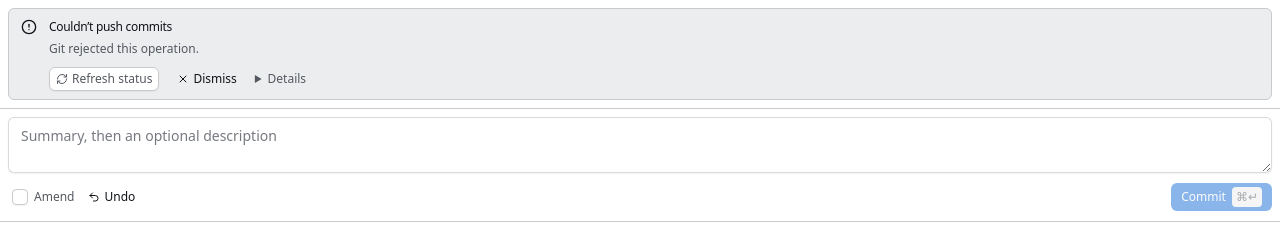
Test: retry success, dismiss, and the main repository refresh each remove old feedback
Click the button "Dismiss". click: point(207, 78)
box: [171,66,243,90]
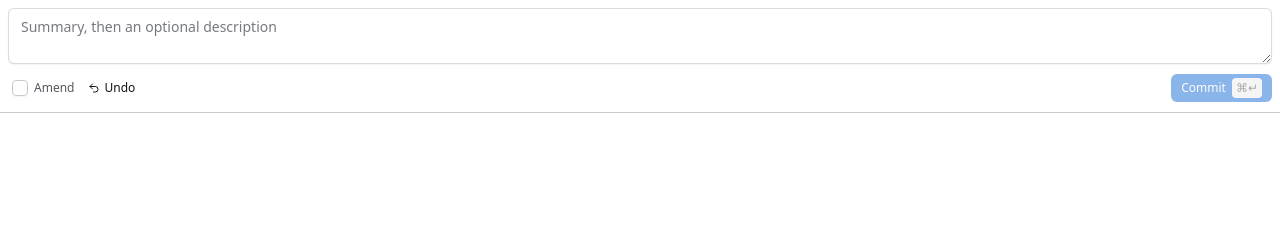
Expected: the text "Couldn’t push commits" is gone
